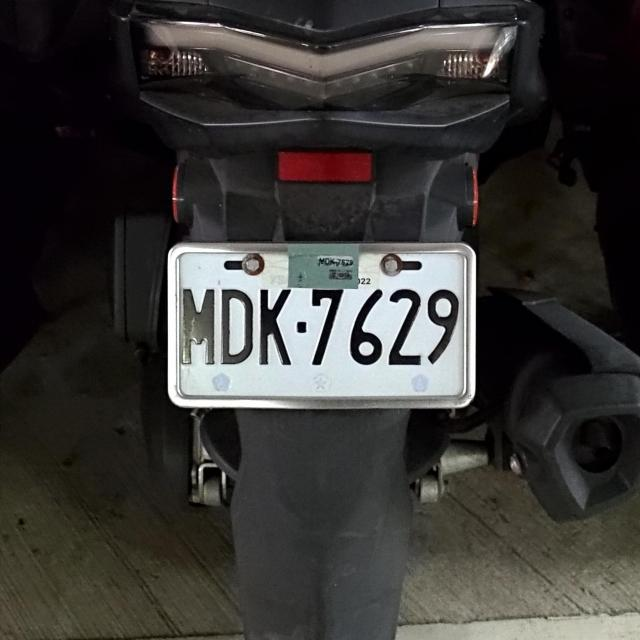W: (164, 233, 479, 414)
